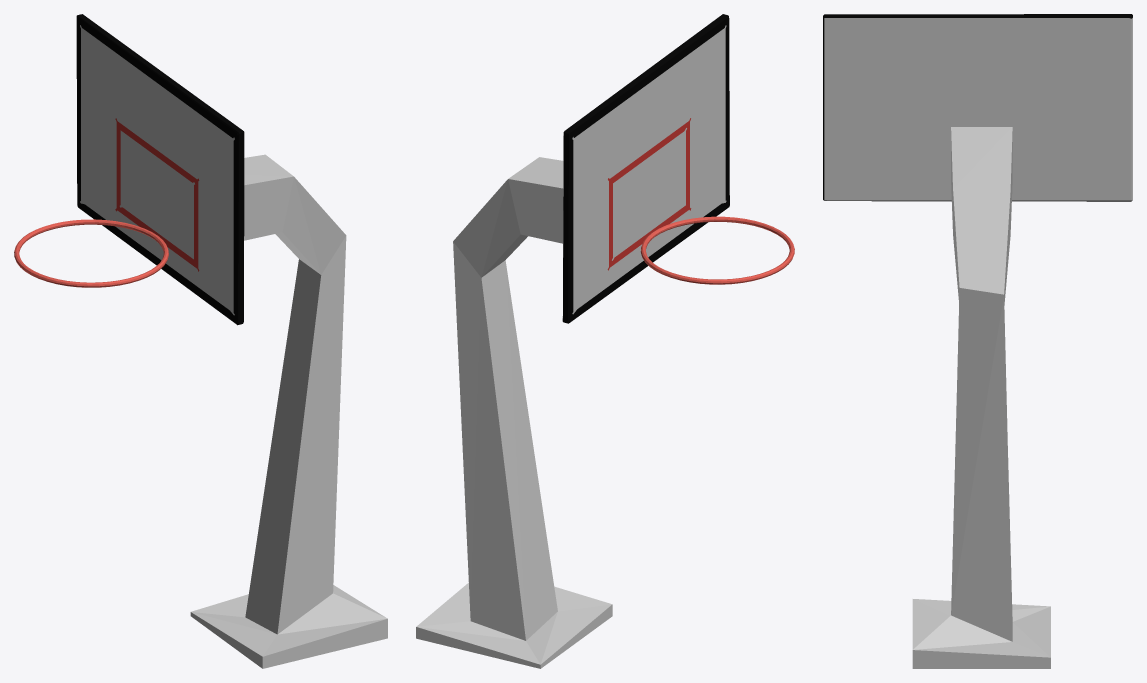
Rendered from basketballhoop.fbx.
3 renders of one model, left to right at view 1: azimuth 30°, elevation 25°; view 2: azimuth 150°, elevation 25°; view 3: azimuth 270°, elevation 25°, orthographic. The views are drawn at different scales.
Visible parts, largest first — view 1: Cube, cube, Torus.001; view 2: Cube, cube, Torus.001; view 3: cube, Cube.
Boxes of the visible parts, x1,y1,x2,y2 form: Cube: [190, 154, 387, 668]; cube: [76, 14, 244, 325]; Torus.001: [14, 219, 168, 287]; Cube: [416, 157, 612, 668]; cube: [562, 14, 729, 323]; Torus.001: [640, 216, 794, 284]; cube: [823, 14, 1132, 201]; Cube: [912, 127, 1050, 668].
Size of the model in its own units: 572 by 970 by 484.
